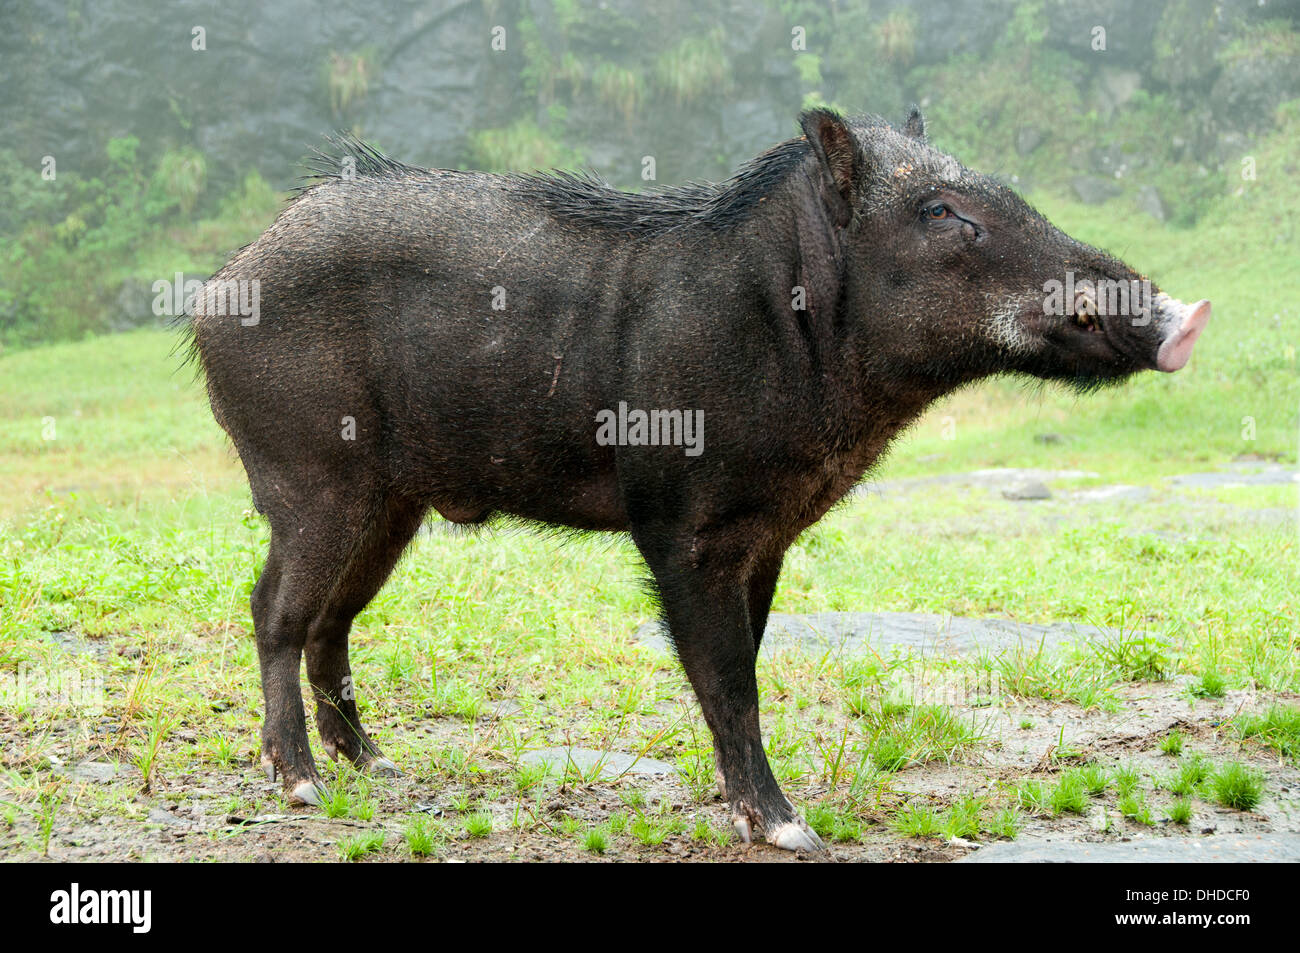wild boar: (162, 99, 1222, 864)
